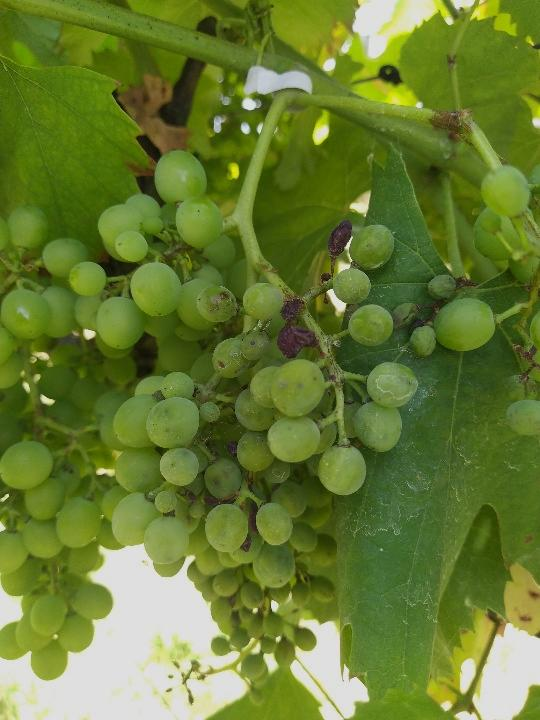grape: (69, 150, 422, 587)
